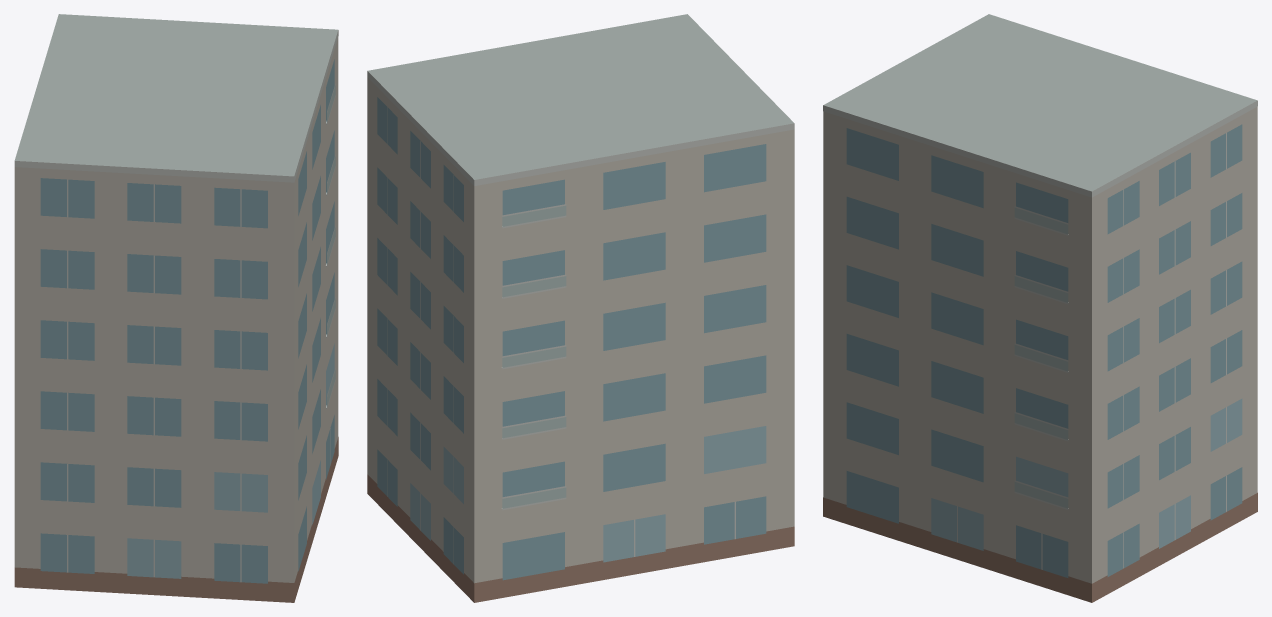
The model's file is survey-upis-32638140.glb.
The picture shows the model from 3 angles, left to right: view 1: azimuth 30°, elevation 25°; view 2: azimuth 150°, elevation 25°; view 3: azimuth 270°, elevation 25°; orthographic projection. The views are drawn at different scales.
Parts seen in each view (by area): view 1: survey-upis-32638140.tmp; view 2: survey-upis-32638140.tmp; view 3: survey-upis-32638140.tmp.
Part boxes in pixels (<box>): survey-upis-32638140.tmp: <box>14,14,338,602</box>; survey-upis-32638140.tmp: <box>367,14,794,602</box>; survey-upis-32638140.tmp: <box>823,14,1257,602</box>.
Size of the model in its own units: 15.47 by 16.7 by 16.
